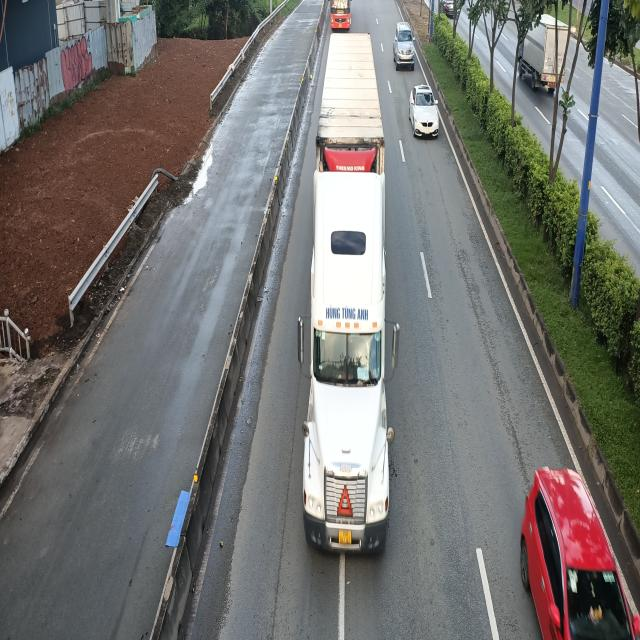car: (520, 466, 640, 640), (410, 84, 440, 138), (395, 22, 417, 69)
container: (296, 31, 398, 561), (330, 0, 352, 32)
